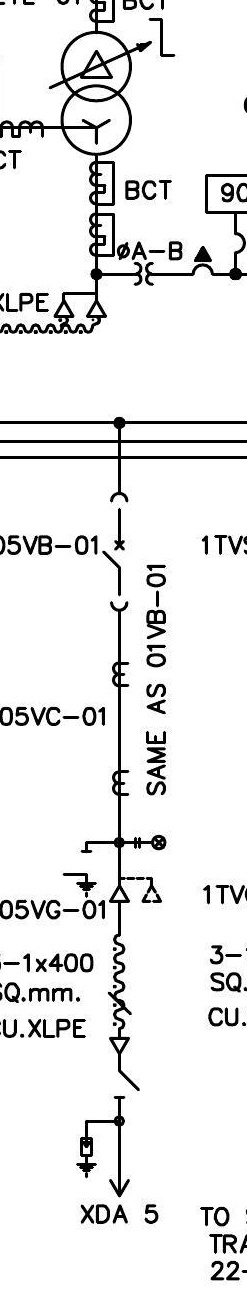11522_tx_dyn1: (60, 30, 133, 157)
22_breaker: (101, 491, 130, 612)
22_ds_la_out: (75, 1070, 141, 1198)
22_gs: (61, 849, 98, 899)
22_ll: (134, 834, 168, 851)
terminator_double: (53, 291, 107, 318)
terminator_single: (108, 1036, 131, 1056)
terminator_w_future: (108, 876, 164, 904)
